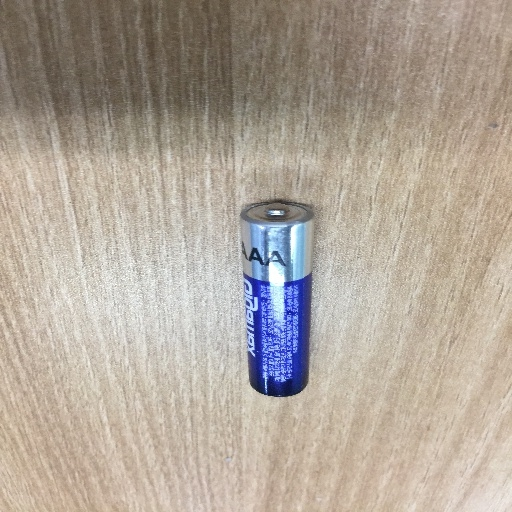Battery_0: (235, 188, 327, 407)
